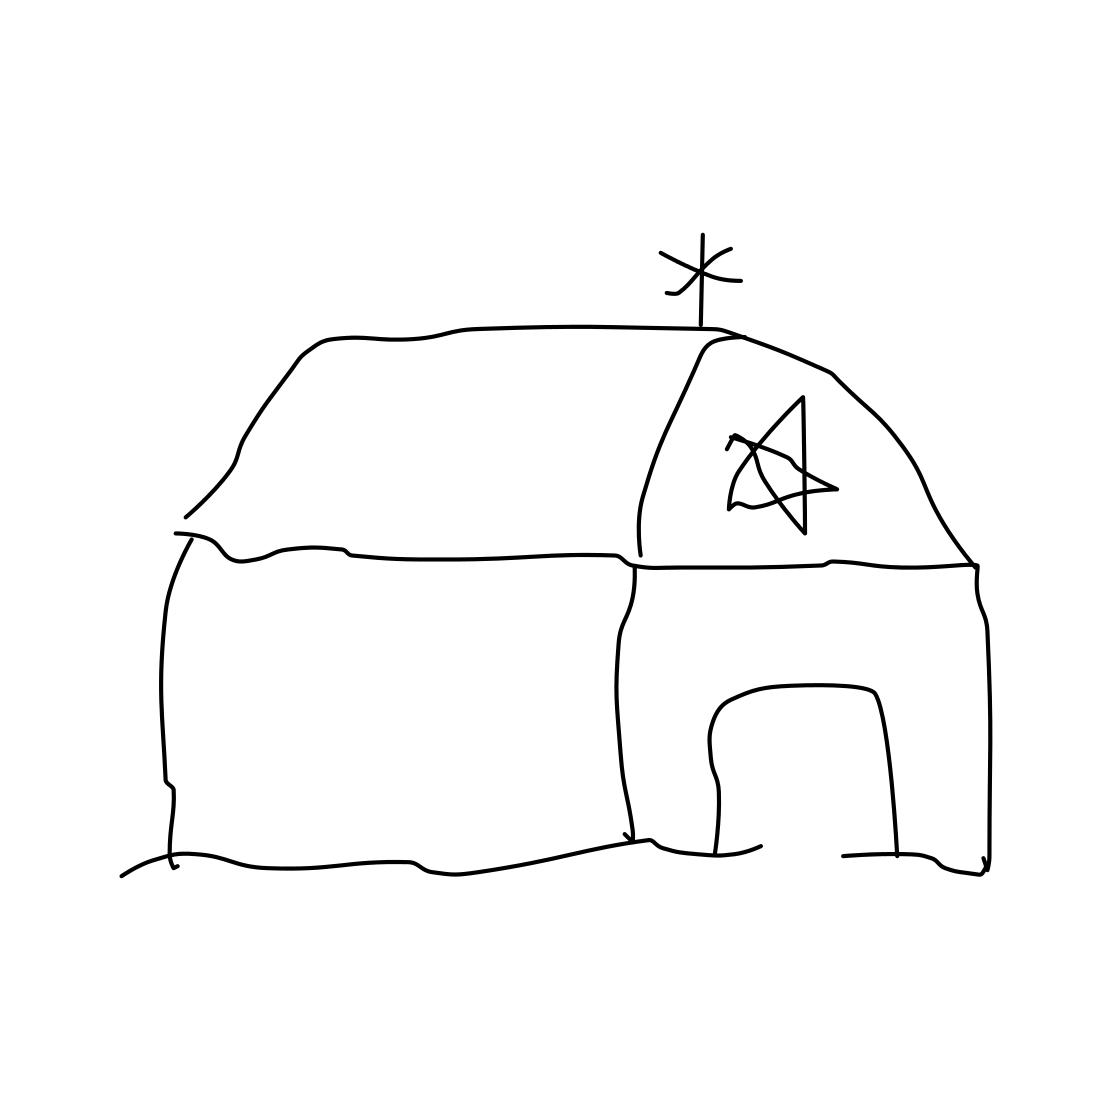House: (133, 198, 1014, 909)
